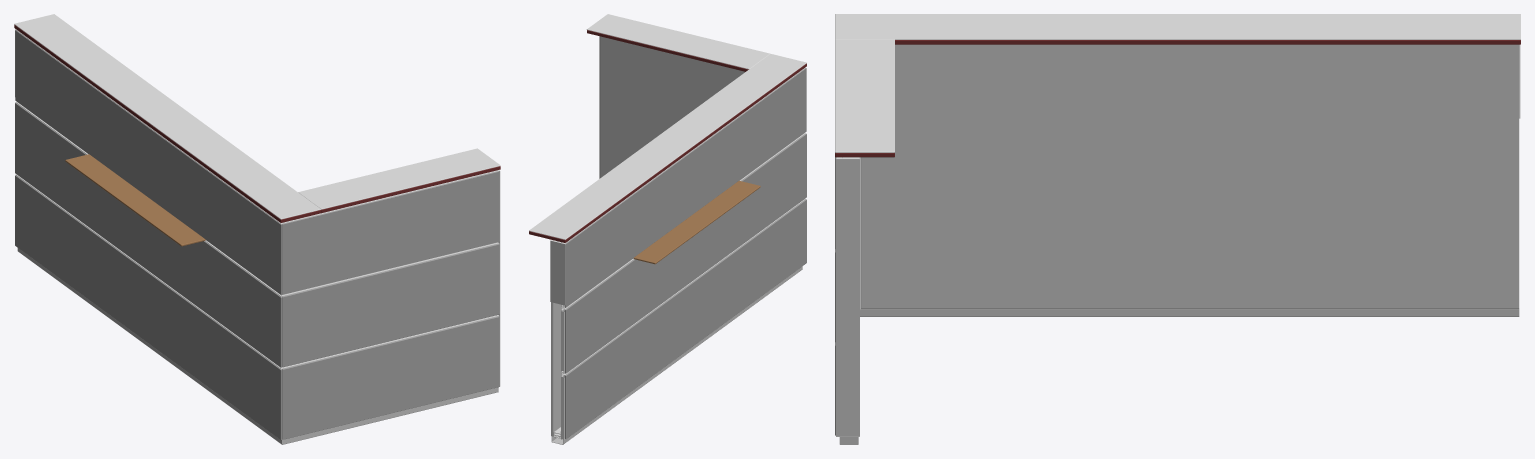
Rendered from Counter_220x100_FINAL.fbx.
The picture shows the model from 3 angles, left to right: view 1: azimuth 30°, elevation 25°; view 2: azimuth 150°, elevation 25°; view 3: azimuth 270°, elevation 25°; orthographic projection. The views are drawn at different scales.
Parts seen in each view (by area): view 1: drewno3_mesh, drewno1_mesh, drewno2_mesh, top_blatu_mesh1, Metal_metal_mesh, shelf_mesh, PLASTIK_MESH, blat_mesh; view 2: drewno3_mesh, drewno1_mesh, drewno2_mesh, top_blatu_mesh1, tyldol, shelf_mesh, Metal_metal_mesh, PLASTIK_MESH, blat_mesh; view 3: tyldol, top_blatu_mesh1, PLASTIK_MESH, blat_mesh, Metal_metal_mesh.
Part boxes in pixels (box(x1,y1,x2,y2)): drewno3_mesh: box(15, 175, 499, 440); drewno1_mesh: box(15, 30, 499, 295); drewno2_mesh: box(15, 102, 499, 367); top_blatu_mesh1: box(14, 14, 500, 219); Metal_metal_mesh: box(15, 29, 500, 439); shelf_mesh: box(65, 154, 205, 246); PLASTIK_MESH: box(17, 248, 498, 444); blat_mesh: box(14, 25, 500, 222); drewno3_mesh: box(565, 199, 806, 439); drewno1_mesh: box(565, 68, 806, 307); drewno2_mesh: box(565, 133, 806, 373); top_blatu_mesh1: box(529, 14, 806, 239); tyldol: box(554, 36, 744, 431); shelf_mesh: box(633, 180, 760, 264); Metal_metal_mesh: box(551, 36, 805, 439); PLASTIK_MESH: box(550, 240, 802, 444); blat_mesh: box(529, 30, 806, 242); tyldol: box(859, 44, 1518, 308); top_blatu_mesh1: box(835, 14, 1520, 152); PLASTIK_MESH: box(836, 159, 1519, 444); blat_mesh: box(835, 40, 1520, 157); Metal_metal_mesh: box(836, 44, 1520, 436).
Size of the model in its own units: 3.08 by 5.82 by 2.75.
